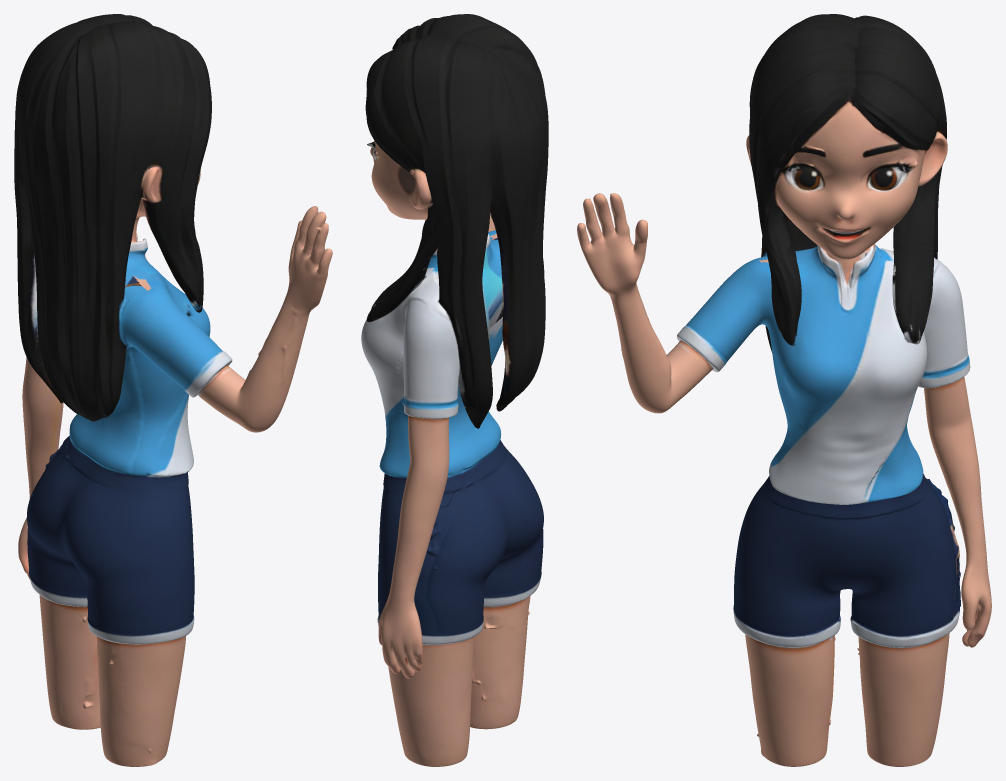
File: girl_avatar.glb
3 renders of one model, left to right at view 1: azimuth 30°, elevation 25°; view 2: azimuth 150°, elevation 25°; view 3: azimuth 270°, elevation 25°, orthographic. The views are drawn at different scales.
Visible parts, largest first — view 1: tripo_node_fd27b84d-5240-46da-9d9e-df2168d7d592; view 2: tripo_node_fd27b84d-5240-46da-9d9e-df2168d7d592; view 3: tripo_node_fd27b84d-5240-46da-9d9e-df2168d7d592.
Boxes of the visible parts, box(x1,y1,x2,y2) form: tripo_node_fd27b84d-5240-46da-9d9e-df2168d7d592: box(14, 14, 332, 766); tripo_node_fd27b84d-5240-46da-9d9e-df2168d7d592: box(361, 14, 548, 766); tripo_node_fd27b84d-5240-46da-9d9e-df2168d7d592: box(577, 14, 991, 766).
Size of the model in its own units: 0.2562 by 1 by 0.5131.
1 material, 1 textured.
